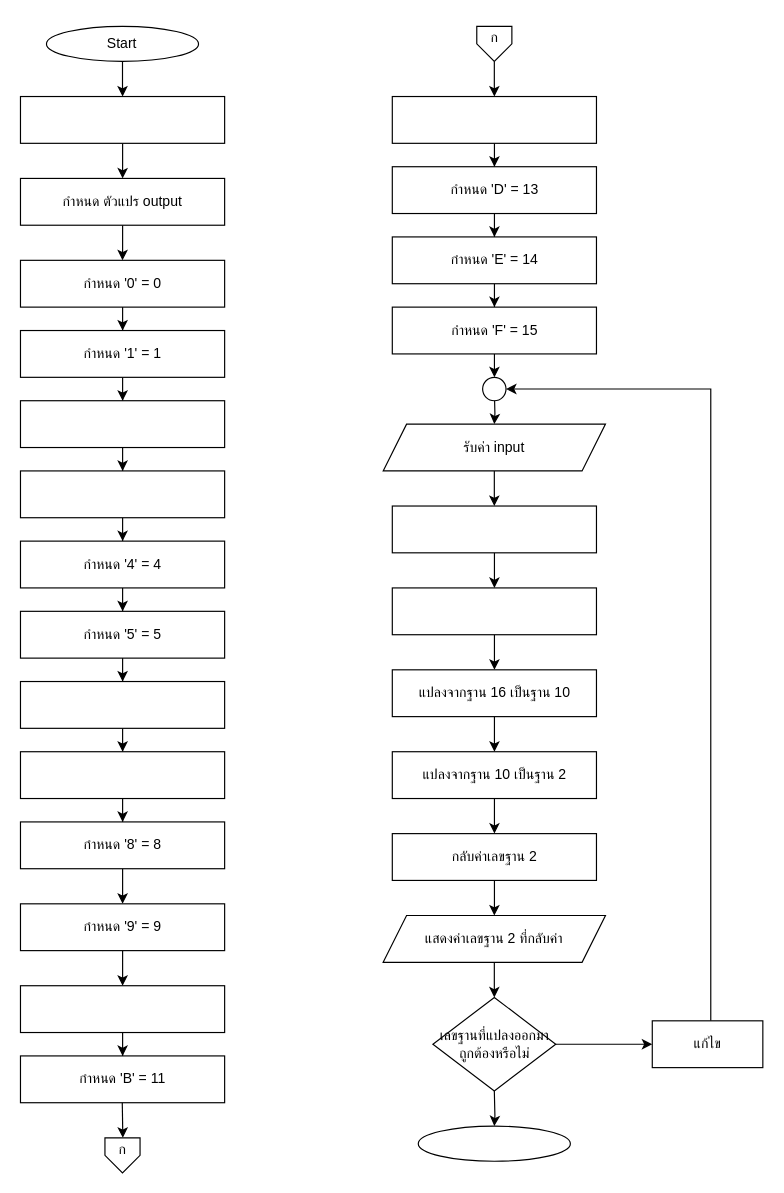
Image size: 784x1193. Some labels were removed from this diagram. Here are the shapes that lost their labels. From the top down, the centre of each, then its label:
At (122,119): "กำหนด ตัวแปร input แบบ char".
At (493,119): "กำหนด 'C' = 12".
At (122,424): "กำหนด '2' = 2".
At (122,494): "กำหนด '3' = 3".
At (493,529): "กำหนดค่า ความยาวของเลขฐาน".
At (493,611): "แปลงจาก Char เป็น Int".
At (122,704): "กำหนด '6' = 6".
At (122,775): "กำหนด '7' = 7".
At (122,1009): "กำหนด 'A' = 10".
At (493,1143): "End".
